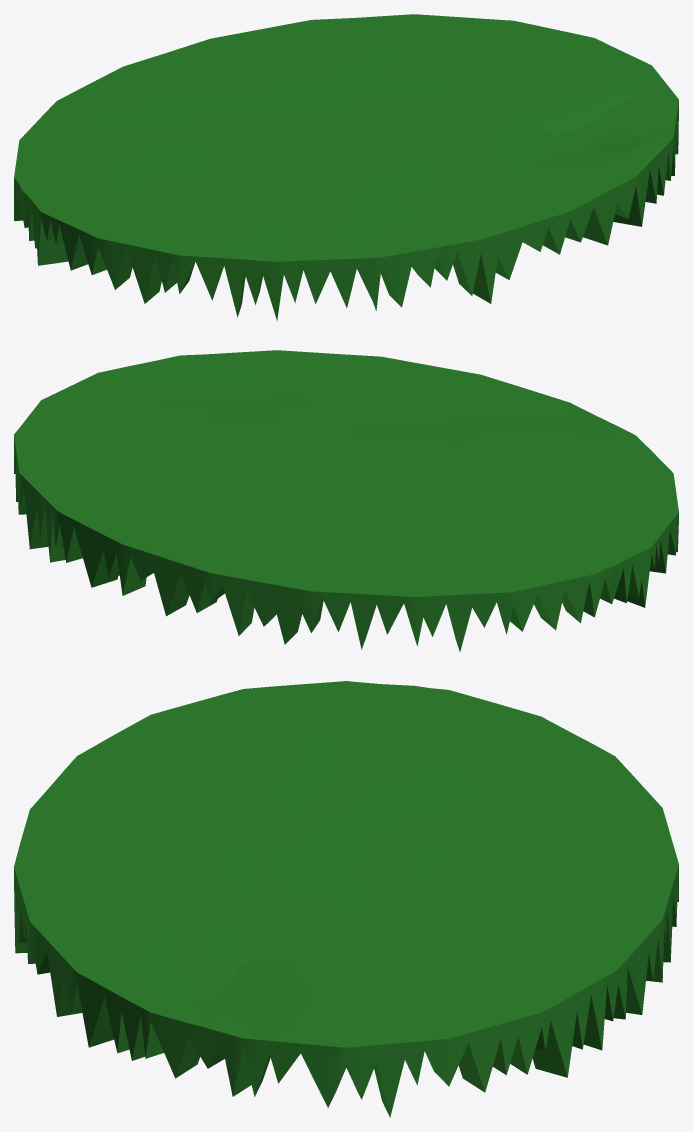
The model's file is grass_layer_ellipse_big.fbx.
3 views of the same model, one above another, from view 1: azimuth 30°, elevation 25°; view 2: azimuth 150°, elevation 25°; view 3: azimuth 270°, elevation 25° (orthographic). The views are drawn at different scales.
Visible parts, largest first — view 1: grass_layer_ellipse_big; view 2: grass_layer_ellipse_big; view 3: grass_layer_ellipse_big.
Boxes of the visible parts, box(x1,y1,x2,y2) form: grass_layer_ellipse_big: box(14, 14, 678, 320); grass_layer_ellipse_big: box(14, 350, 678, 651); grass_layer_ellipse_big: box(14, 681, 678, 1117).
Size of the model in its own units: 1381 by 154 by 1067.
